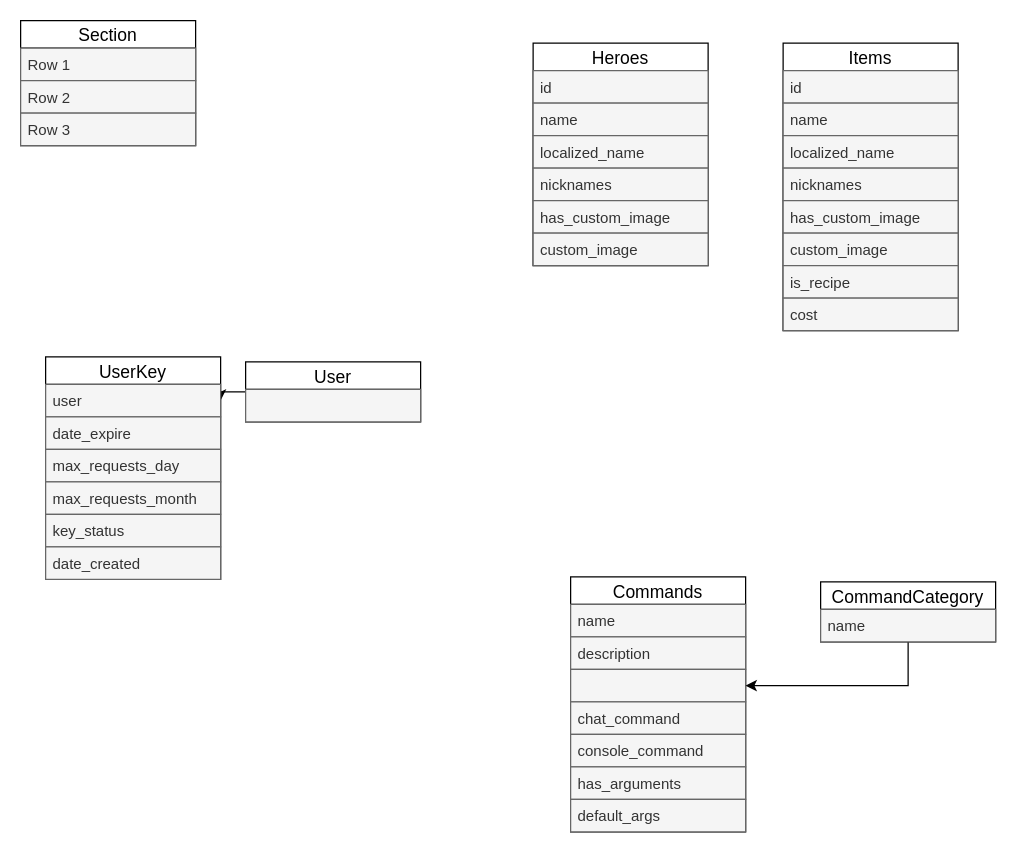
The diagram is 1016 pixels wide and 853 high, and some of its shapes have lost their labels. The shapes that lost their labels are listed below. From the top down, each one's centre as x and y in pixels, then its label:
At point (332, 405): "//Django default user".
At point (657, 685): "category".
